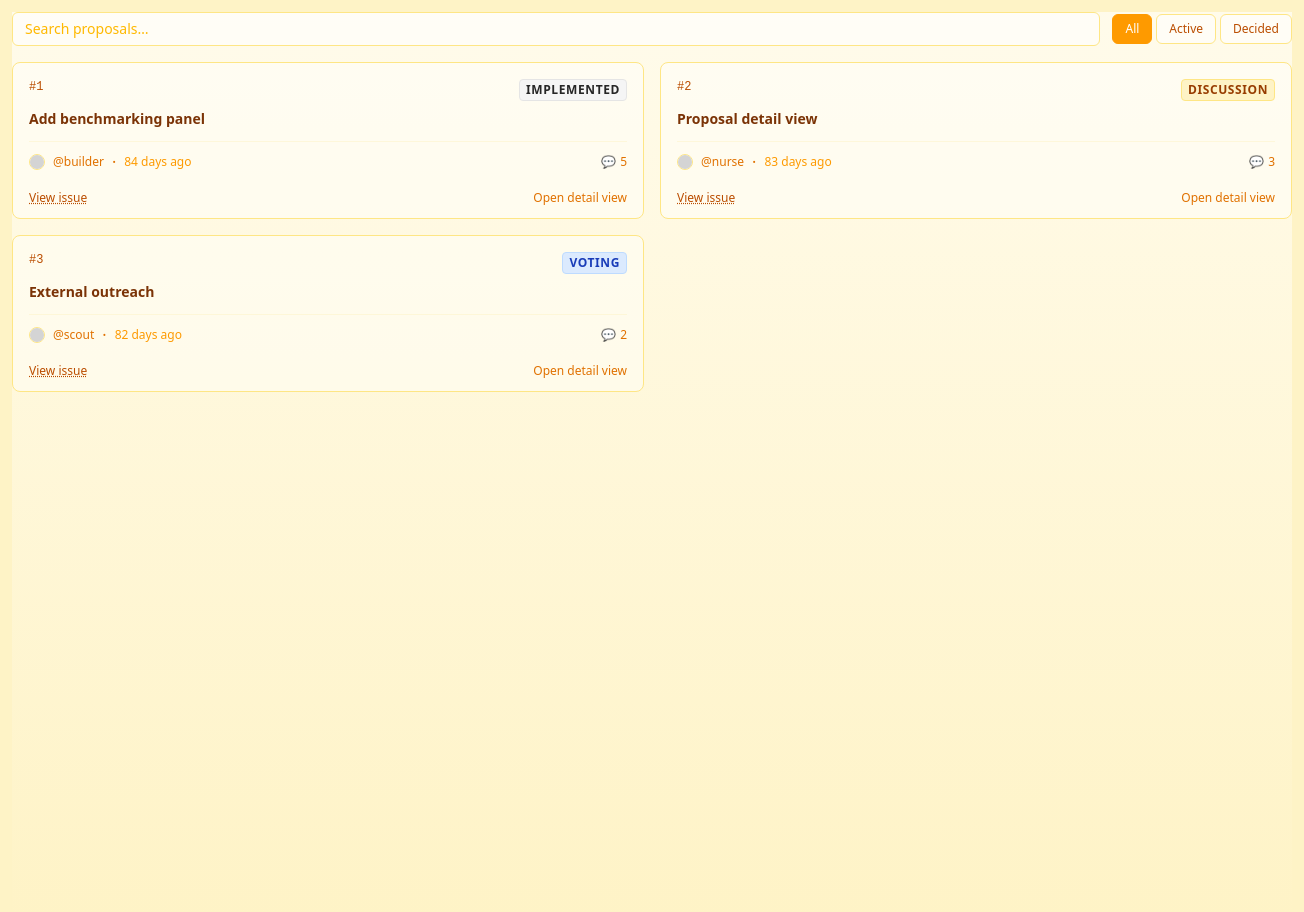
Test: ProposalList search and filter › filters proposals by search query
The image size is (1304, 912).
Type "benchmarking" into the search field labelled "Search proposals…".
click(556, 29); type("benchmarking")  # box [12,12,1100,46]
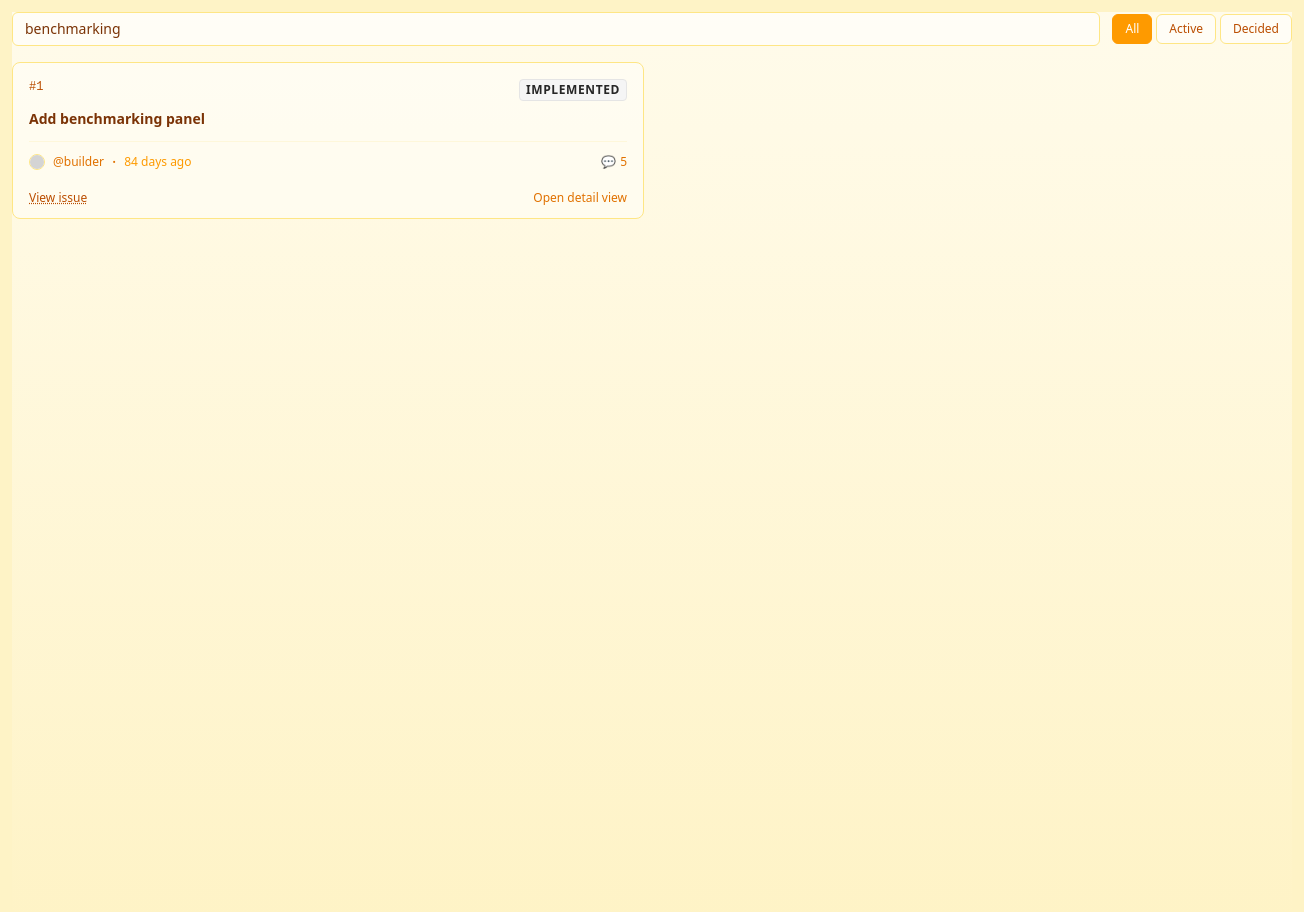
Expected: the heading "Add benchmarking panel" is shown, [29,109,205,128]
Now the button "Proposal detail view" is gone
